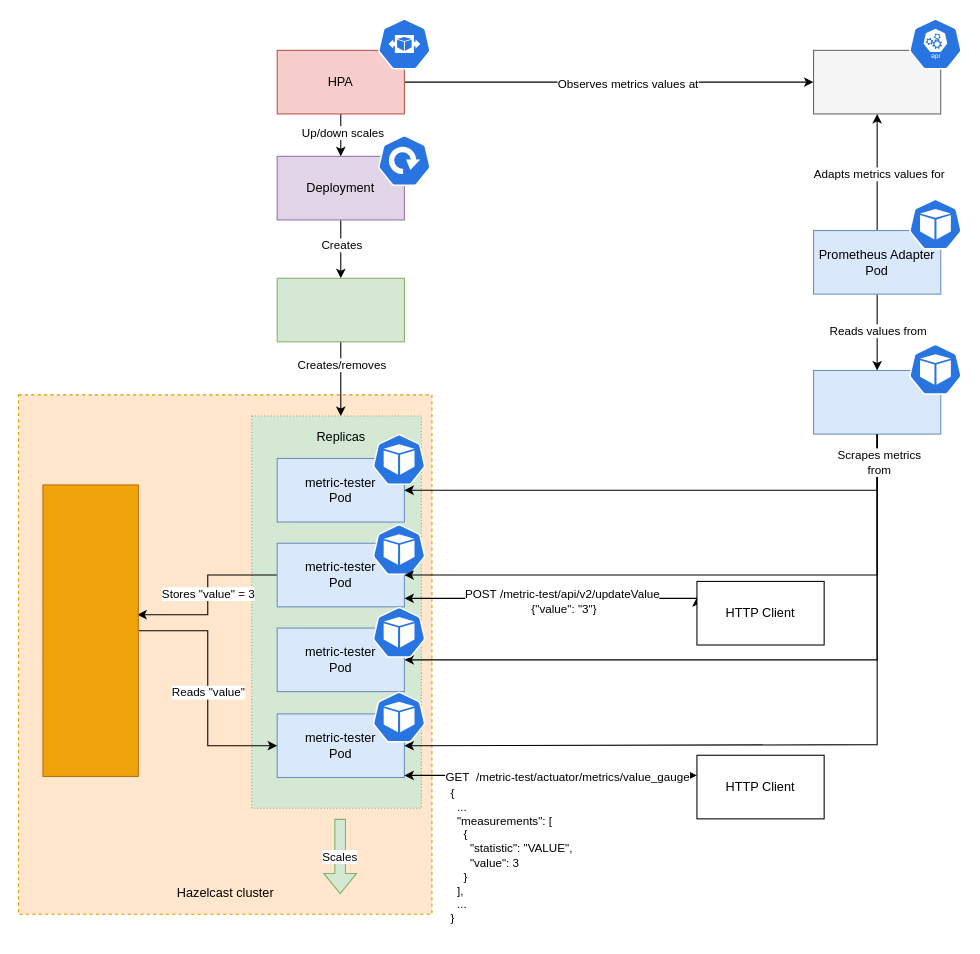
Some shapes in this 980 by 954 pixel diagram are drawn without their labels. Each missing label, with the box of its shape:
Custom metrics API: (812, 49, 941, 114)
Prometheus Pod: (812, 369, 941, 434)
ReplicaSet: (276, 277, 404, 342)
Replicated Map "value": (42, 484, 138, 776)
